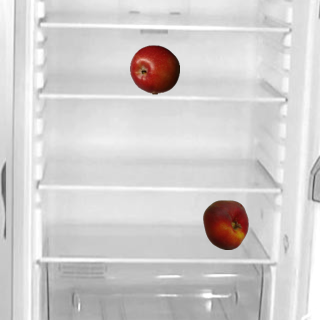Apple Braeburn: (129, 44, 179, 94)
Nectarine Flat: (200, 199, 250, 249)
